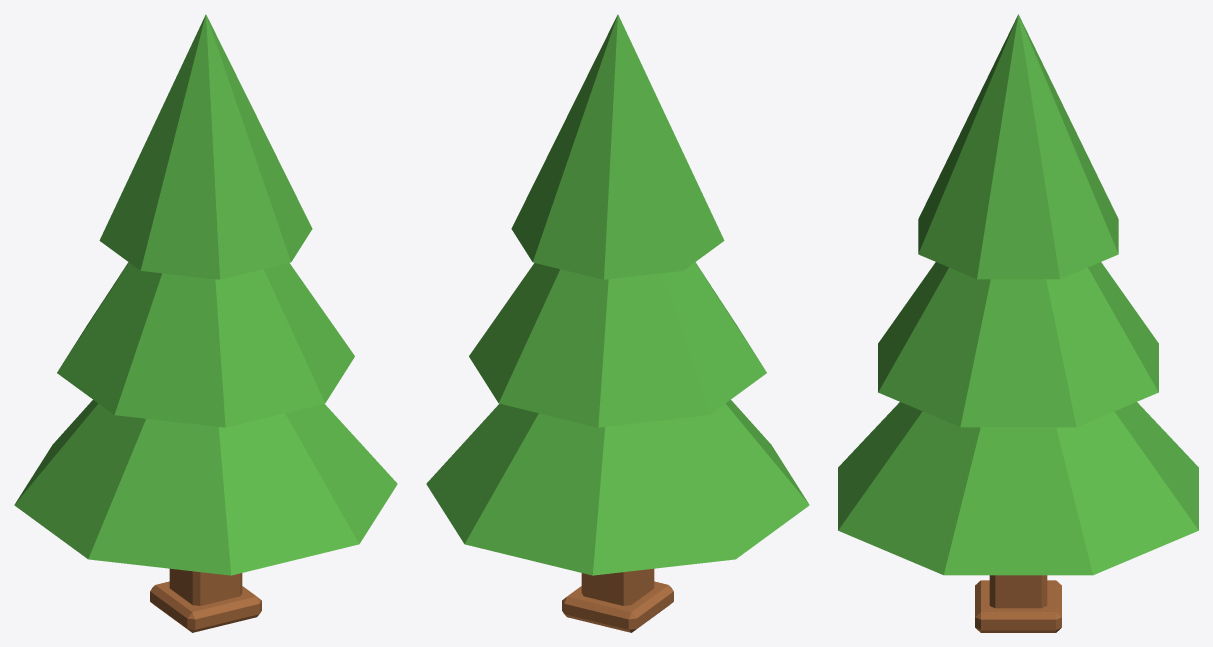
The model's file is tree-pine.glb.
3 renders of one model, left to right at view 1: azimuth 30°, elevation 25°; view 2: azimuth 150°, elevation 25°; view 3: azimuth 270°, elevation 25°, orthographic.
Parts seen in each view (by area): view 1: tree-pine; view 2: tree-pine; view 3: tree-pine.
Part boxes in pixels (bbox=[...]): tree-pine: bbox=[14, 14, 397, 632]; tree-pine: bbox=[426, 14, 809, 632]; tree-pine: bbox=[838, 14, 1198, 632].
Bounding box in the file's own units: 2.49 × 4.6 × 2.49.
